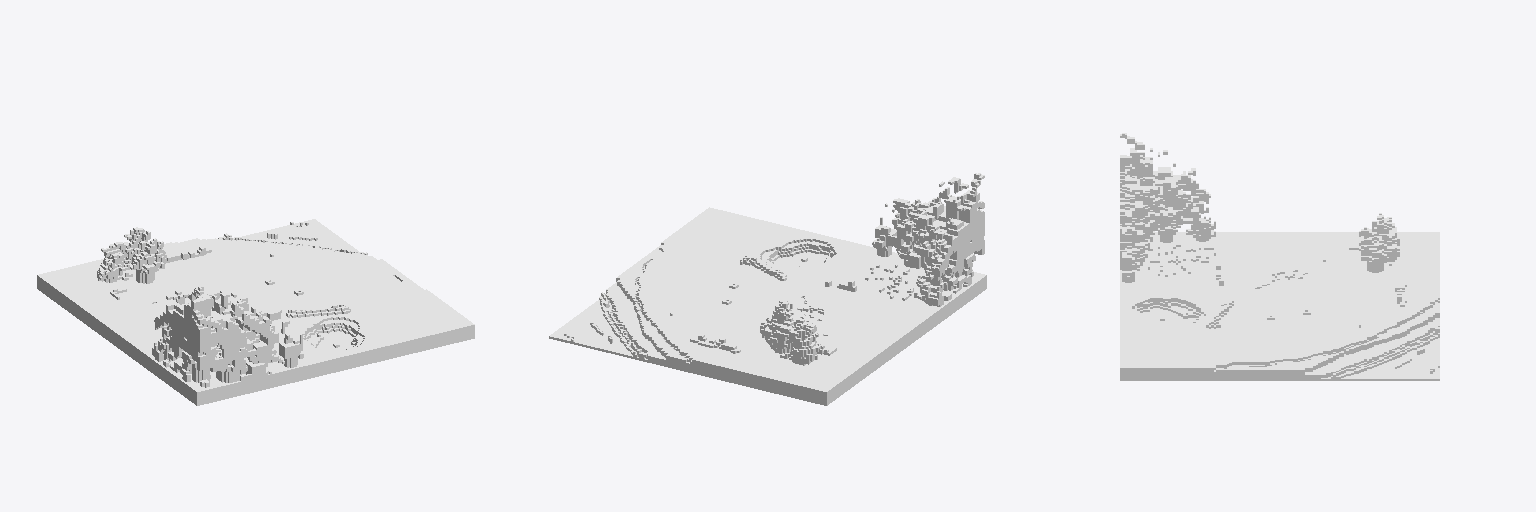
File: Grass001.obj
3 views of the same model, side by side, from view 1: azimuth 30°, elevation 25°; view 2: azimuth 150°, elevation 25°; view 3: azimuth 270°, elevation 25° (orthographic).
Bounding box in the file's own units: 126 × 50 × 126.